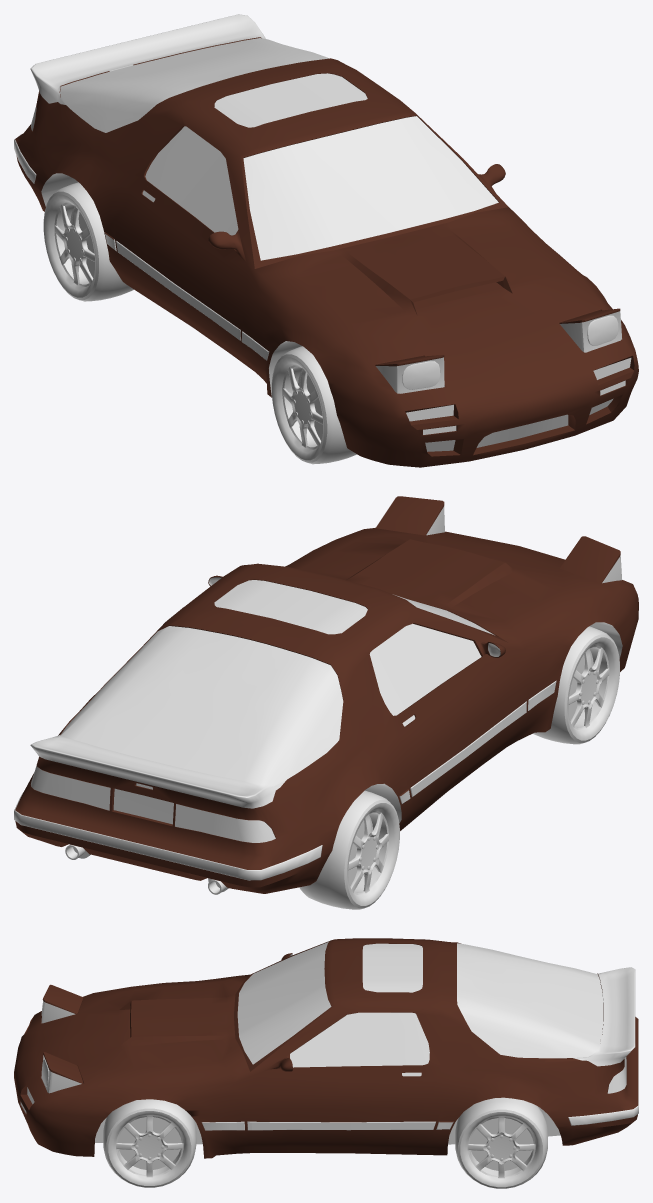
Rendered from Mazda Rx7 Fcloosecolors.fbx.
The picture shows the model from 3 angles, top to bottom: view 1: azimuth 30°, elevation 25°; view 2: azimuth 150°, elevation 25°; view 3: azimuth 270°, elevation 25°; orthographic projection. The views are drawn at different scales.
Visible parts, largest first — view 1: car try 2, Cylinder.003, Cylinder.004, Cube.001, Cube; view 2: car try 2, Cylinder.003, Cylinder.004, Cube, Cube.001; view 3: car try 2, Cylinder.002, Cylinder.001, Cube, Cube.001.
Part boxes in pixels (bbox=[...]): car try 2: bbox=[14, 14, 638, 467]; Cylinder.003: bbox=[43, 182, 133, 301]; Cylinder.004: bbox=[271, 346, 356, 464]; Cube.001: bbox=[375, 355, 444, 393]; Cube: bbox=[559, 308, 621, 352]; car try 2: bbox=[14, 527, 638, 893]; Cylinder.003: bbox=[299, 790, 399, 909]; Cylinder.004: bbox=[533, 626, 619, 744]; Cube: bbox=[376, 496, 444, 535]; Cube.001: bbox=[559, 536, 622, 583]; car try 2: bbox=[14, 938, 638, 1158]; Cylinder.002: bbox=[455, 1097, 547, 1188]; Cylinder.001: bbox=[103, 1099, 196, 1187]; Cube: bbox=[41, 1052, 83, 1093]; Cube.001: bbox=[41, 984, 83, 1023].
Bounding box in the file's own units: 376 × 257 × 860.
